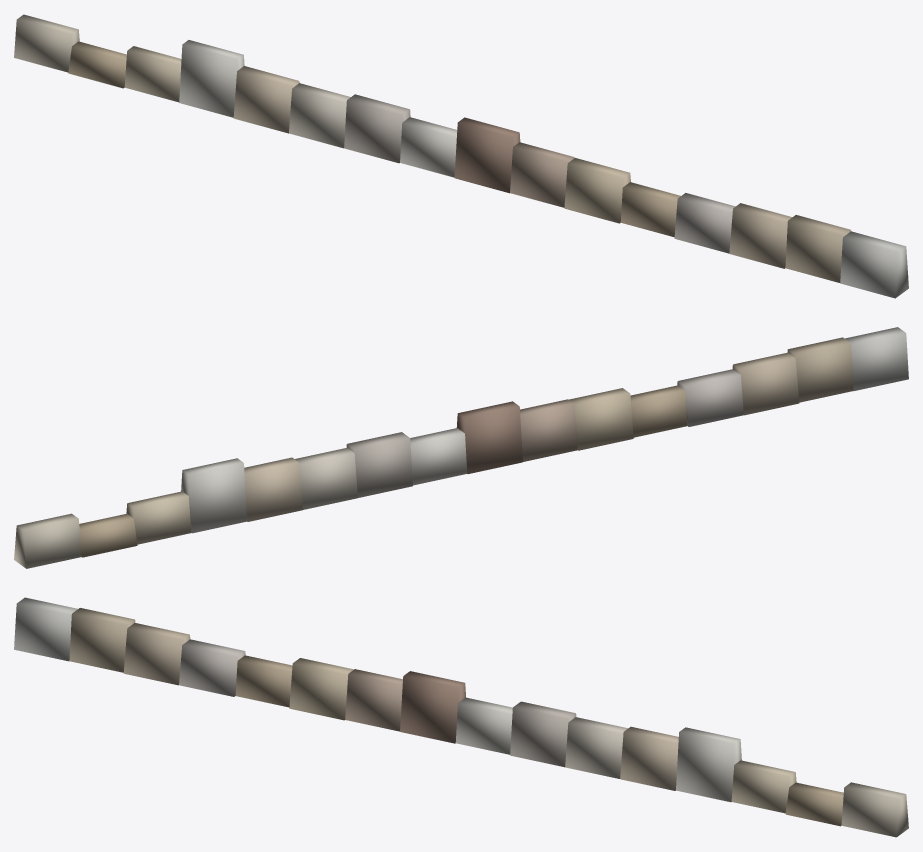
The model's file is farm_9_2_collision.glb.
The picture shows the model from 3 angles, top to bottom: view 1: azimuth 90°, elevation 25°; view 2: azimuth 150°, elevation 25°; view 3: azimuth 270°, elevation 25°; orthographic projection.
Visible parts, largest first — view 1: geometry_0; view 2: geometry_0; view 3: geometry_0.
Part boxes in pixels (bbox=[...]): geometry_0: bbox=[14, 14, 908, 298]; geometry_0: bbox=[14, 327, 908, 568]; geometry_0: bbox=[14, 597, 908, 837].
Size of the model in its own units: 13.26 by 2.14 by 22.4.
